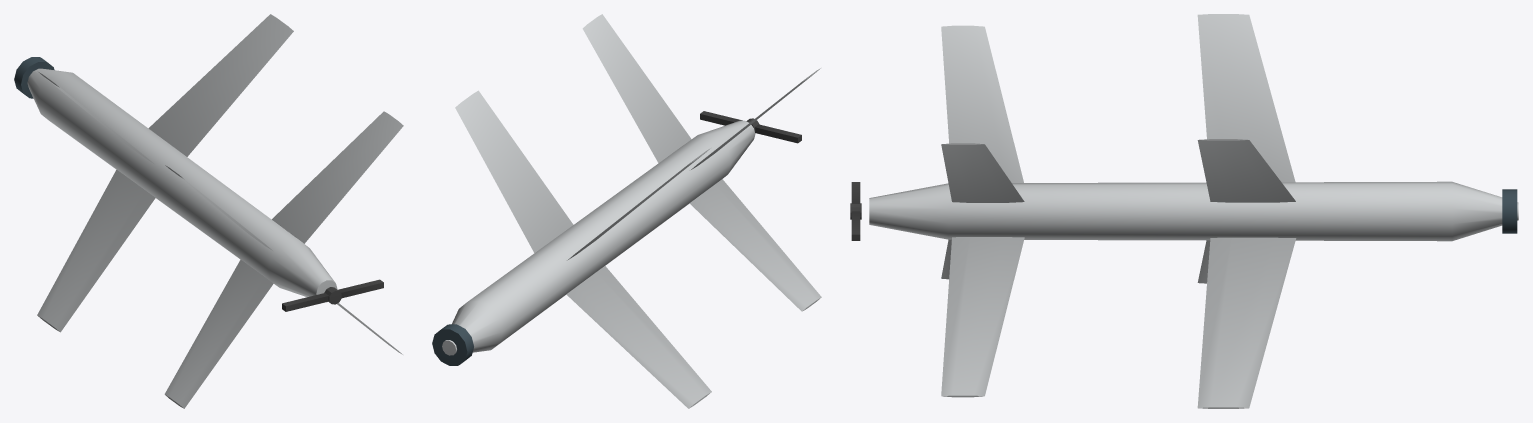
Rendered from rus_lm_lancet3m.glb.
3 views of the same model, side by side, from view 1: azimuth 30°, elevation 25°; view 2: azimuth 150°, elevation 25°; view 3: azimuth 270°, elevation 25° (orthographic). The views are drawn at different scales.
Visible parts, largest first — view 1: body, propy_0; view 2: body, propy_0; view 3: body, propy_0.
Boxes of the visible parts, x1,y1,x2,y2 form: body: (14,14,403,408); propy_0: (282,279,383,311); body: (432,14,821,408); propy_0: (700,111,801,143); body: (869,14,1518,408); propy_0: (850,182,861,240).
Bounding box in the file's own units: 0.8485 × 0.8537 × 1.92.
